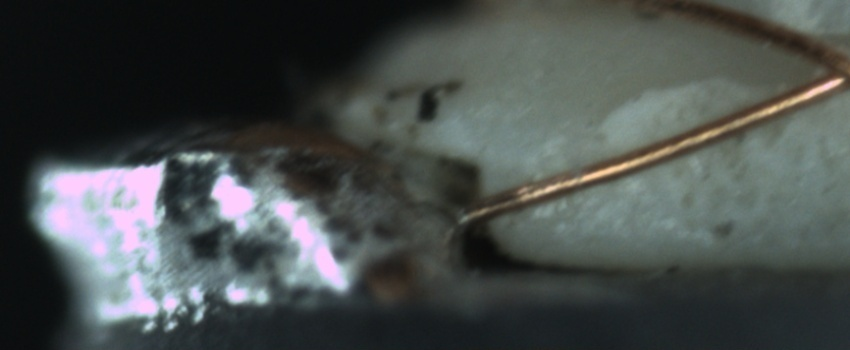CL: (795, 28, 850, 100)
